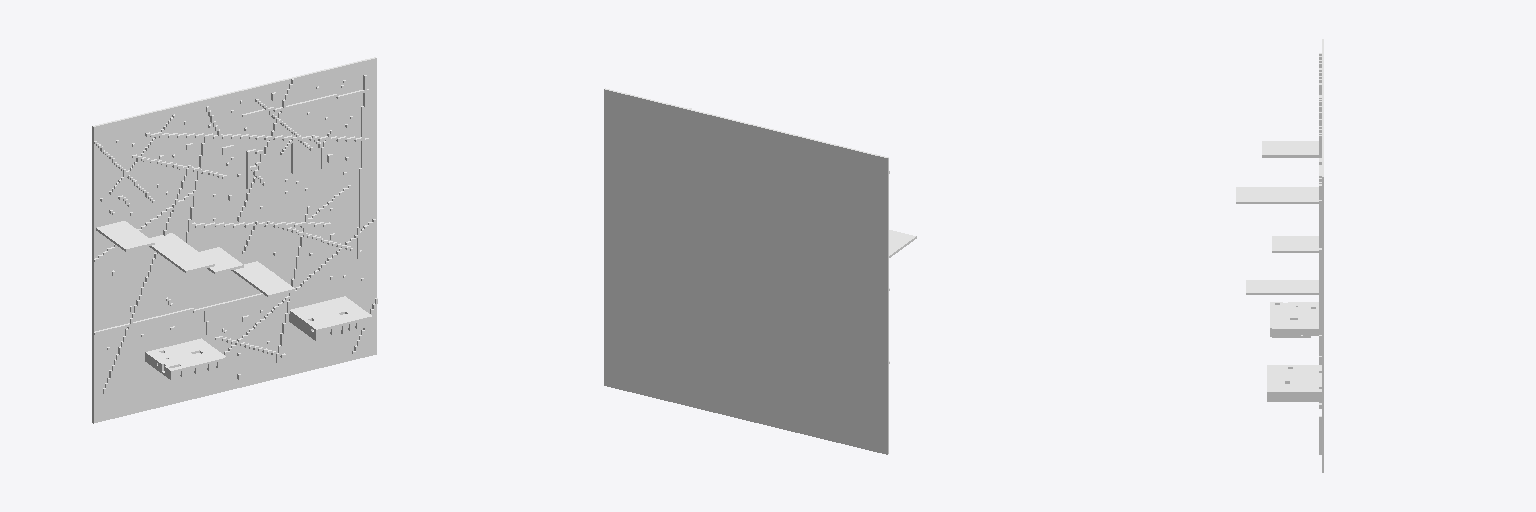
The model's file is val2-1.obj.
3 renders of one model, left to right at view 1: azimuth 30°, elevation 25°; view 2: azimuth 150°, elevation 25°; view 3: azimuth 270°, elevation 25°, orthographic.
Parts seen in each view (by area): view 1: val2-1; view 2: val2-1; view 3: val2-1.
Boxes of the visible parts, <box> form: val2-1: <box>92,57,377,423</box>; val2-1: <box>604,88,916,454</box>; val2-1: <box>1236,39,1323,472</box>.
Bounding box in the file's own units: 126 × 126 × 34.